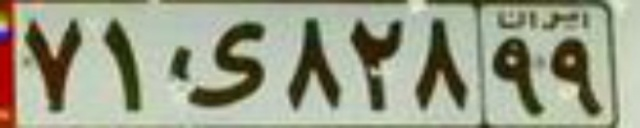1: (94, 15, 141, 112)
2: (348, 16, 407, 112)
7: (23, 17, 88, 114)
8: (284, 16, 345, 112), (414, 16, 472, 113)
9: (490, 37, 543, 116), (548, 38, 603, 114)
ye: (166, 19, 264, 108)
